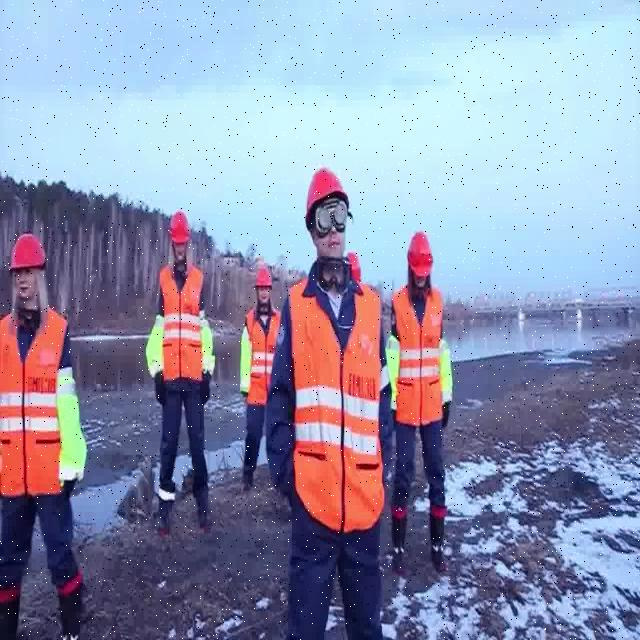Hard_hat: (304, 168, 355, 217), (3, 235, 48, 276), (403, 230, 440, 274), (166, 213, 192, 243)
Person: (266, 169, 388, 640), (0, 234, 85, 640), (383, 232, 458, 572), (136, 213, 215, 513)
Vest: (283, 278, 382, 523), (0, 308, 70, 491), (388, 283, 447, 418), (154, 259, 210, 388), (241, 300, 287, 405)
